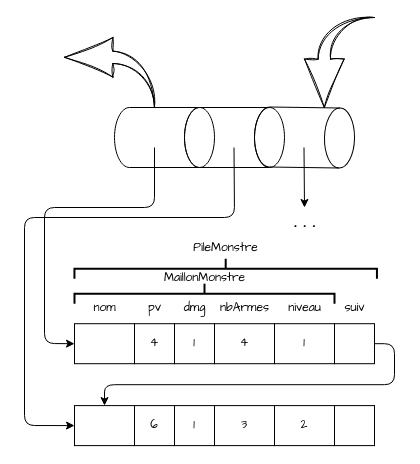
Some shapes in this 420 by 464 pixel diagram are drawn without their labels. The shapes that lost their labels are listed below. From the top down, each one's centre as x and y in pixels, then its label:
At [104,343]: "choin".
At [104,425]: "Lutin".
